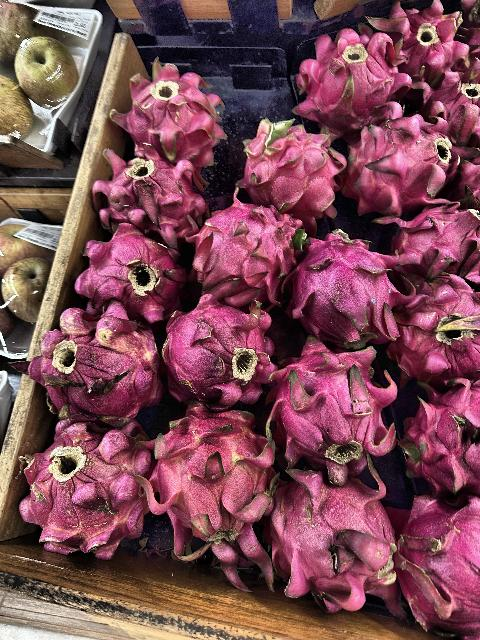buah-naga-matang: (262, 458, 398, 620), (12, 418, 152, 562), (146, 404, 274, 558), (264, 333, 394, 462), (31, 305, 163, 421), (287, 228, 412, 350), (392, 482, 480, 640), (110, 61, 230, 166), (160, 298, 280, 402), (232, 118, 340, 225), (294, 31, 408, 127), (188, 199, 294, 301), (350, 106, 452, 210), (93, 148, 205, 242), (77, 220, 184, 318), (392, 268, 480, 374), (404, 373, 480, 489), (386, 198, 480, 284), (369, 1, 469, 74), (422, 74, 480, 144)
